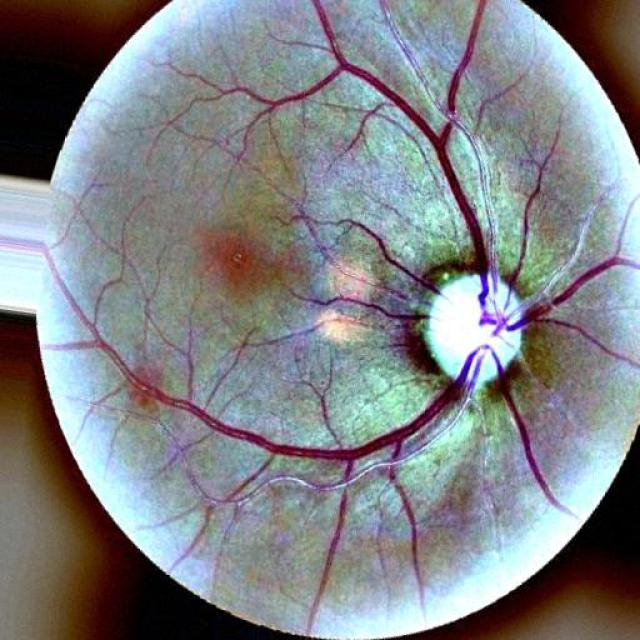Optic Disk: (424, 274, 519, 390)
